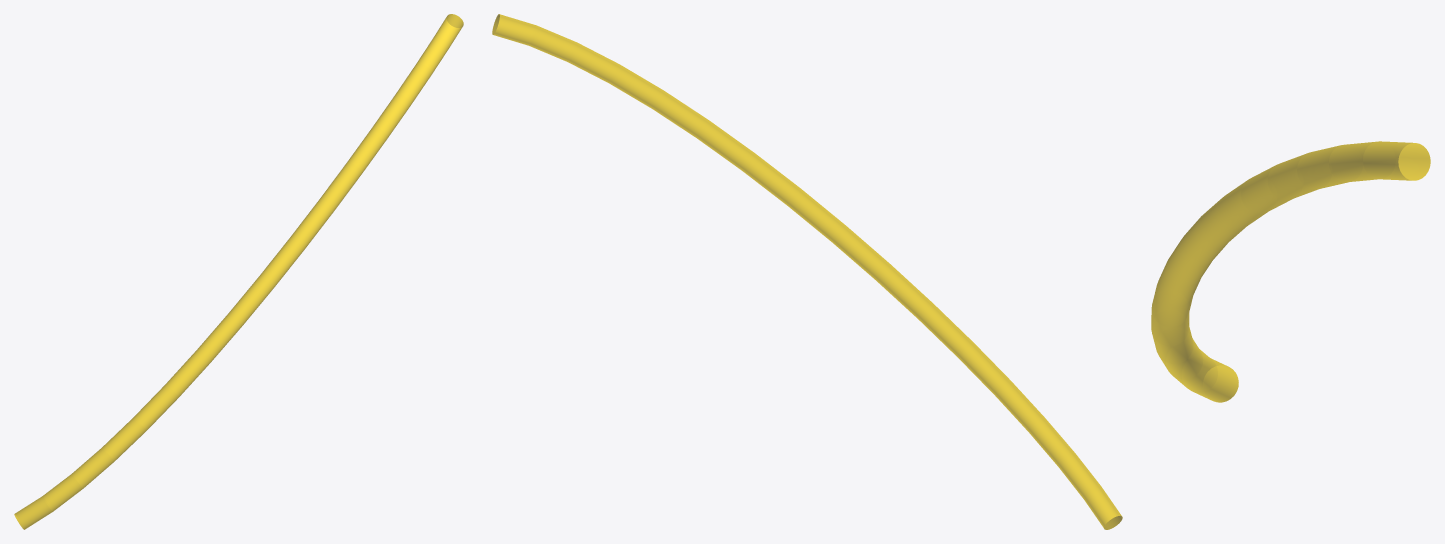
File: Event_419990632_track_54.fbx
The picture shows the model from 3 angles, left to right: view 1: azimuth 30°, elevation 25°; view 2: azimuth 150°, elevation 25°; view 3: azimuth 270°, elevation 25°; orthographic projection. The views are drawn at different scales.
Parts seen in each view (by area): view 1: Model; view 2: Model; view 3: Model.
Boxes of the visible parts, x1,y1,x2,y2 form: Model: (14,14,463,529); Model: (492,14,1122,529); Model: (1151,141,1430,402).
Size of the model in its own units: 1.2 by 0.8442 by 0.2948.
